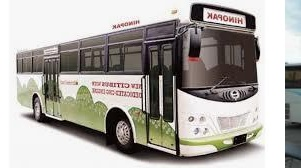bus: (16, 4, 264, 158)
